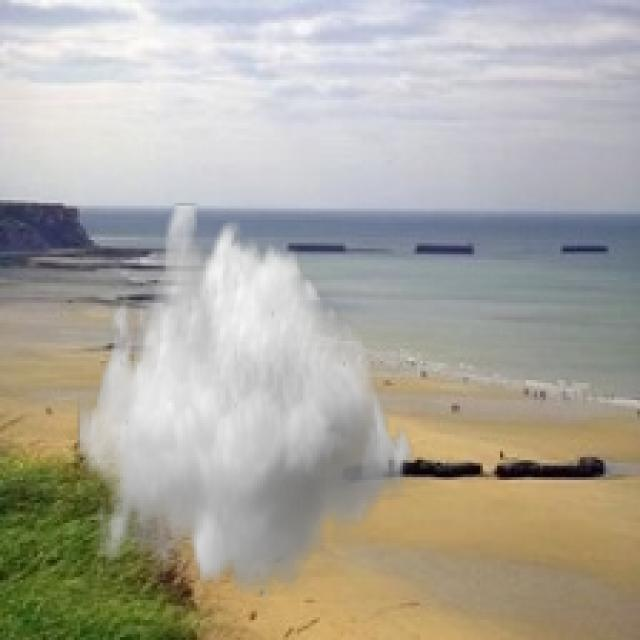Smoke: (77, 203, 420, 600)
